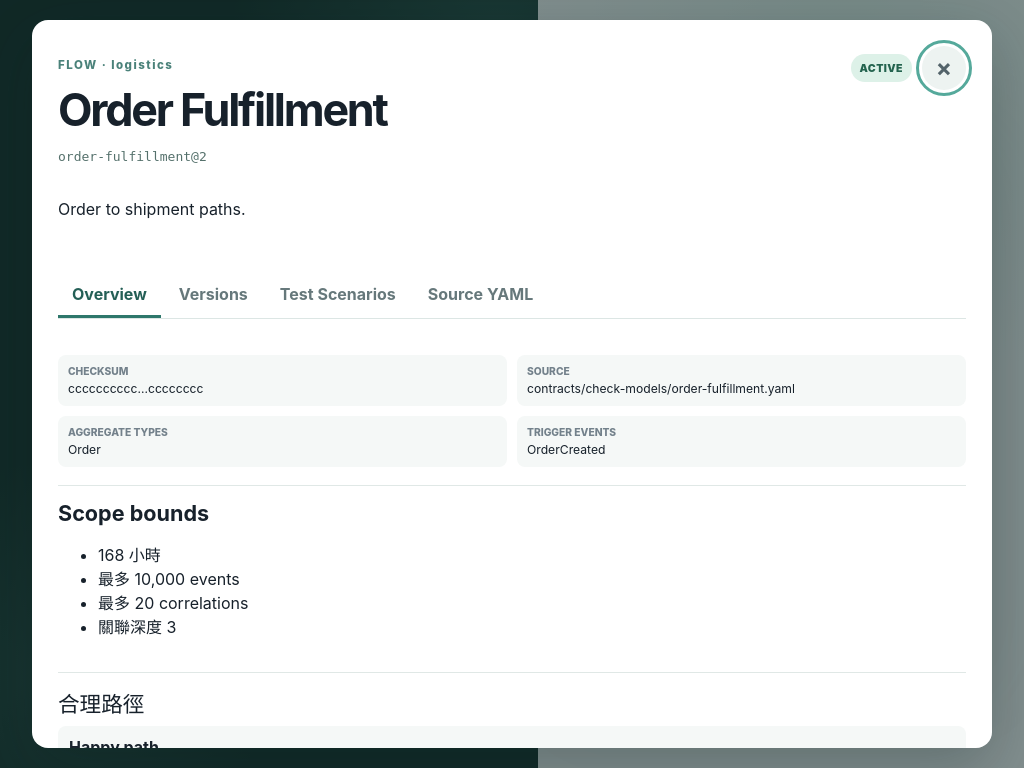
Test: Check Models registry › loads the exact source YAML only after the source panel is opened
Click the tab "Source YAML": (481, 296) [414,273,547,318]
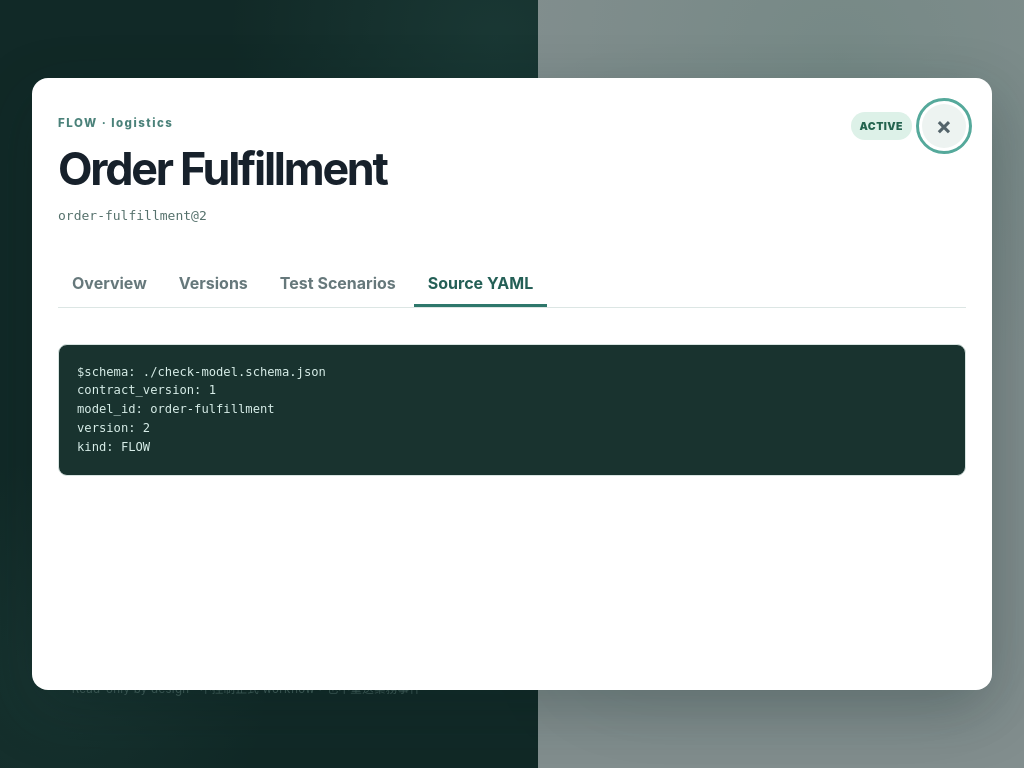
Check: the text "Order to shipment paths." is gone
